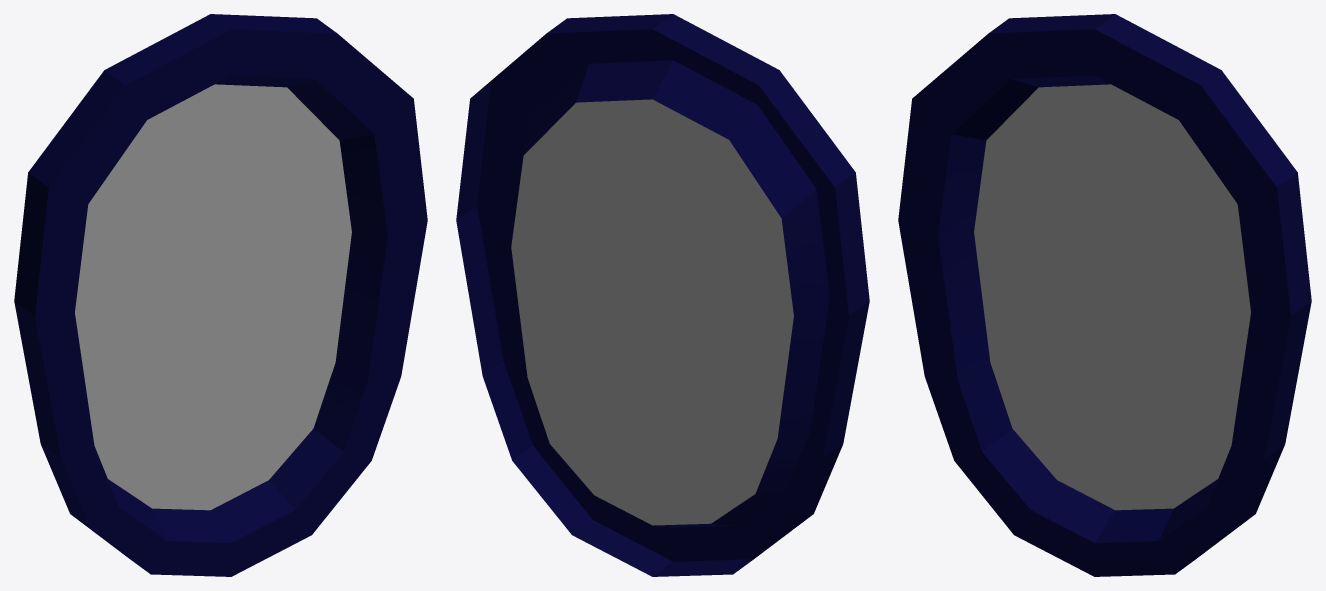
File: Cuadro2.fbx
The picture shows the model from 3 angles, left to right: view 1: azimuth 30°, elevation 25°; view 2: azimuth 150°, elevation 25°; view 3: azimuth 330°, elevation 25°; orthographic projection.
Parts seen in each view (by area): view 1: cuadro_2; view 2: cuadro_2; view 3: cuadro_2.
Part boxes in pixels (<box>): cuadro_2: <box>14,14,427,576</box>; cuadro_2: <box>456,14,869,576</box>; cuadro_2: <box>898,14,1311,576</box>.
Bounding box in the file's own units: 61.85 × 82.42 × 5.67.
